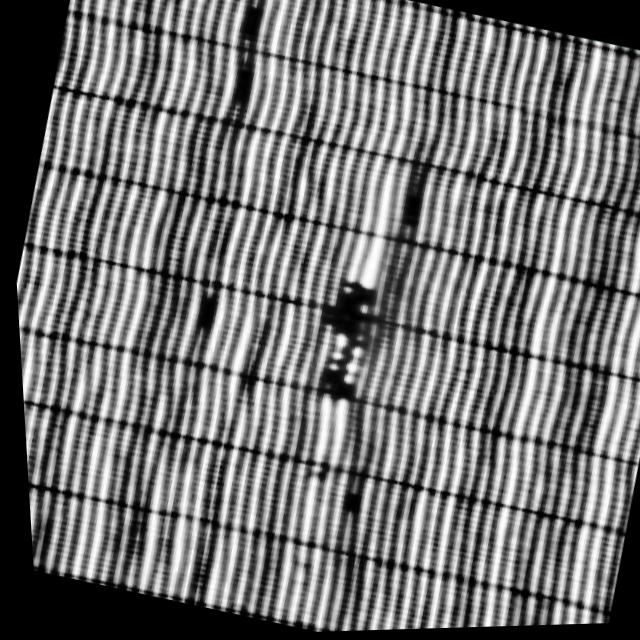Stitch: (270, 266, 408, 429)
